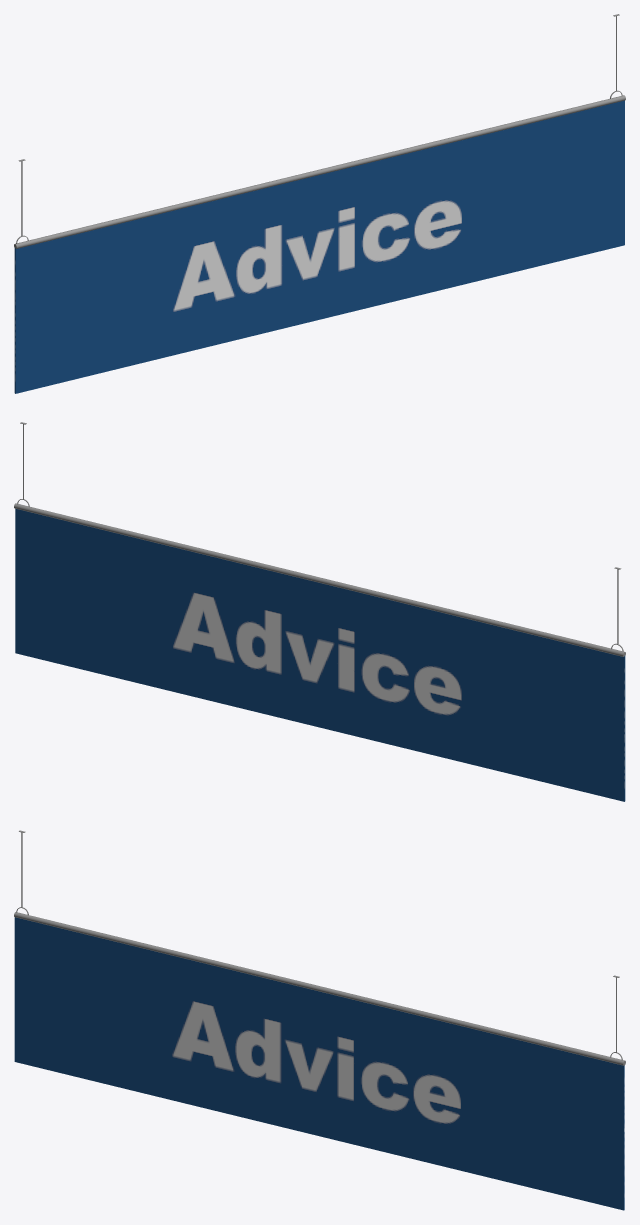
File: Poster 4.FBX
The picture shows the model from 3 angles, top to bottom: view 1: azimuth 30°, elevation 25°; view 2: azimuth 150°, elevation 25°; view 3: azimuth 330°, elevation 25°; orthographic projection.
Parts seen in each view (by area): view 1: poster 4; view 2: poster 4; view 3: poster 4.
Part boxes in pixels (<box>): poster 4: <box>14,14,625,393</box>; poster 4: <box>14,422,625,801</box>; poster 4: <box>14,830,625,1210</box>.
Size of the model in its own units: 89.54 by 32.52 by 0.6818.
2 materials, 1 textured.
